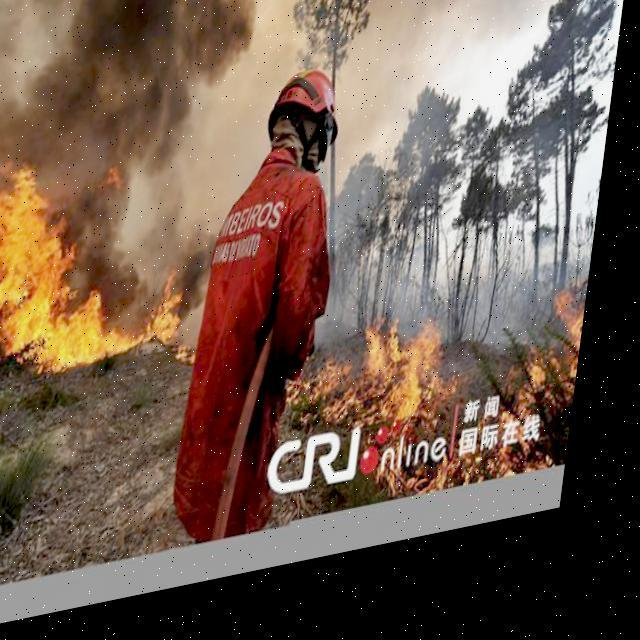Fire: (308, 293, 600, 538), (0, 122, 212, 400)
